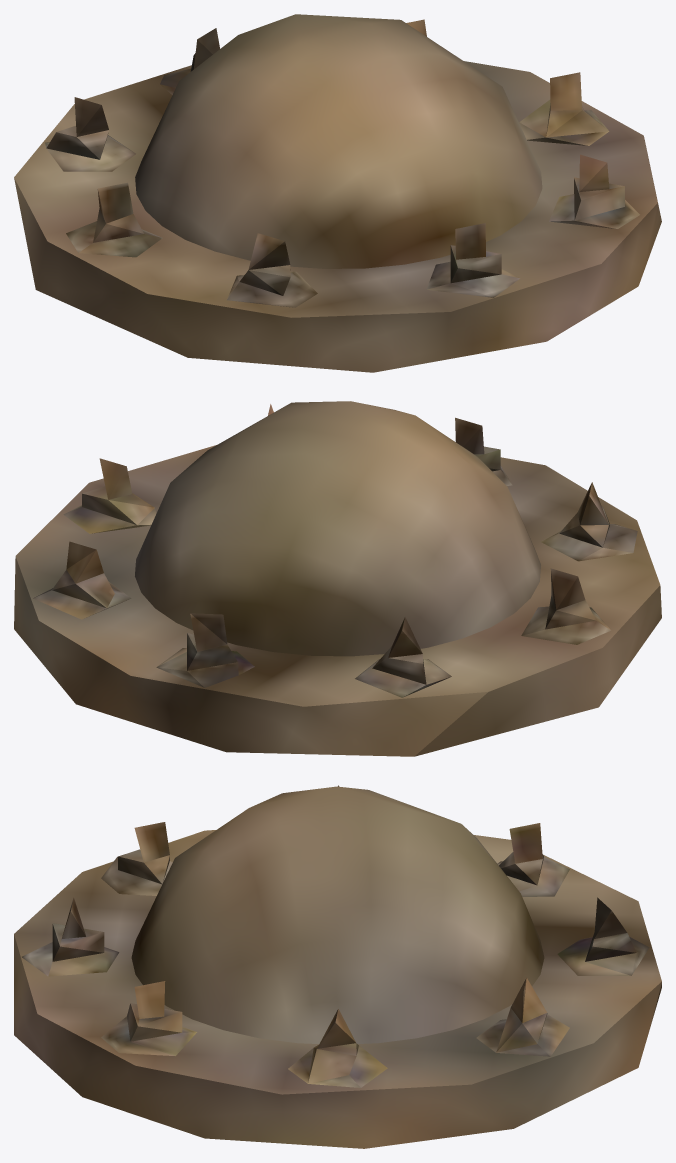
Rendered from pipe-collar.lod1.glb.
The picture shows the model from 3 angles, top to bottom: view 1: azimuth 30°, elevation 25°; view 2: azimuth 150°, elevation 25°; view 3: azimuth 270°, elevation 25°; orthographic projection.
Parts seen in each view (by area): view 1: pipe-collar; view 2: pipe-collar; view 3: pipe-collar.
Boxes of the visible parts, x1,y1,x2,y2 form: pipe-collar: [14, 14, 661, 372]; pipe-collar: [14, 401, 661, 756]; pipe-collar: [14, 785, 661, 1148].
Size of the model in its own units: 0.2834 by 0.098 by 0.2804.
1 material, 1 textured.
